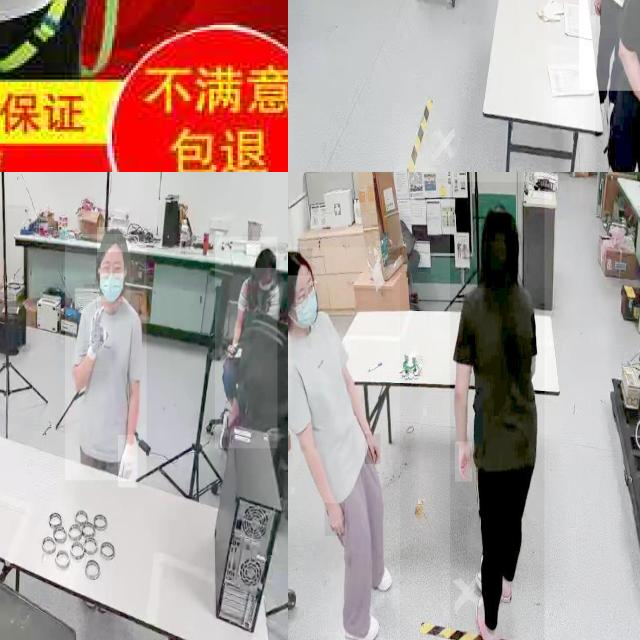face_mask: (97, 244, 131, 302), (295, 283, 322, 334)
glasses: (295, 278, 319, 313)
hand_glove: (86, 308, 112, 371), (118, 435, 138, 488)
hand_noglove: (324, 503, 346, 537), (455, 442, 473, 482), (365, 434, 381, 464), (590, 0, 601, 16)
head_nohelmet: (481, 202, 519, 242), (97, 227, 128, 253), (288, 248, 312, 276), (256, 246, 276, 268)
person: (288, 246, 400, 640), (450, 182, 545, 640), (65, 234, 147, 481), (215, 237, 278, 449), (579, 0, 640, 90)
shoes: (471, 563, 516, 606), (340, 604, 381, 640), (474, 592, 501, 640), (370, 559, 394, 593)
